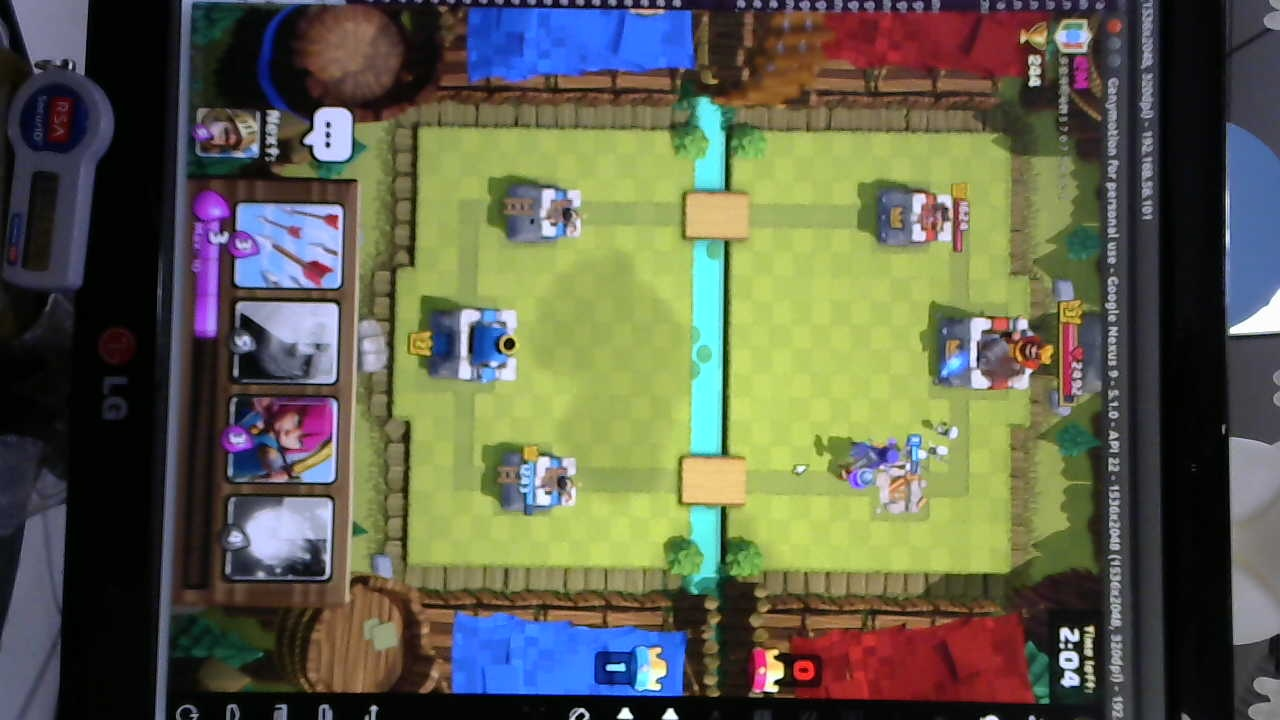arena: (503, 447, 584, 514), (500, 183, 584, 244)
darena: (870, 458, 926, 519)
earena: (876, 187, 956, 248)
eking: (932, 312, 1046, 395)
king: (430, 304, 524, 385)
musketeer: (831, 450, 880, 487)
skeleton: (917, 414, 962, 466)
witch: (843, 437, 907, 472)
